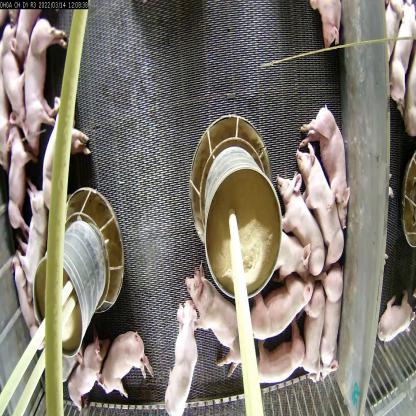Pig: (184, 264, 253, 375), (292, 140, 344, 274), (267, 164, 329, 272), (300, 102, 353, 226), (24, 20, 71, 154), (41, 95, 92, 215), (240, 270, 314, 340), (99, 325, 158, 400), (161, 300, 198, 415), (250, 332, 312, 396), (1, 113, 31, 236), (62, 333, 107, 412), (317, 270, 346, 384), (13, 244, 41, 356), (18, 173, 47, 276), (0, 24, 32, 117), (266, 216, 309, 279), (307, 0, 344, 52), (304, 290, 324, 381)
